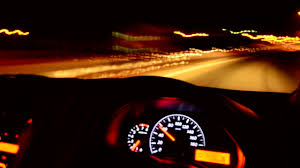Digital_Meter: (194, 147, 234, 165)
